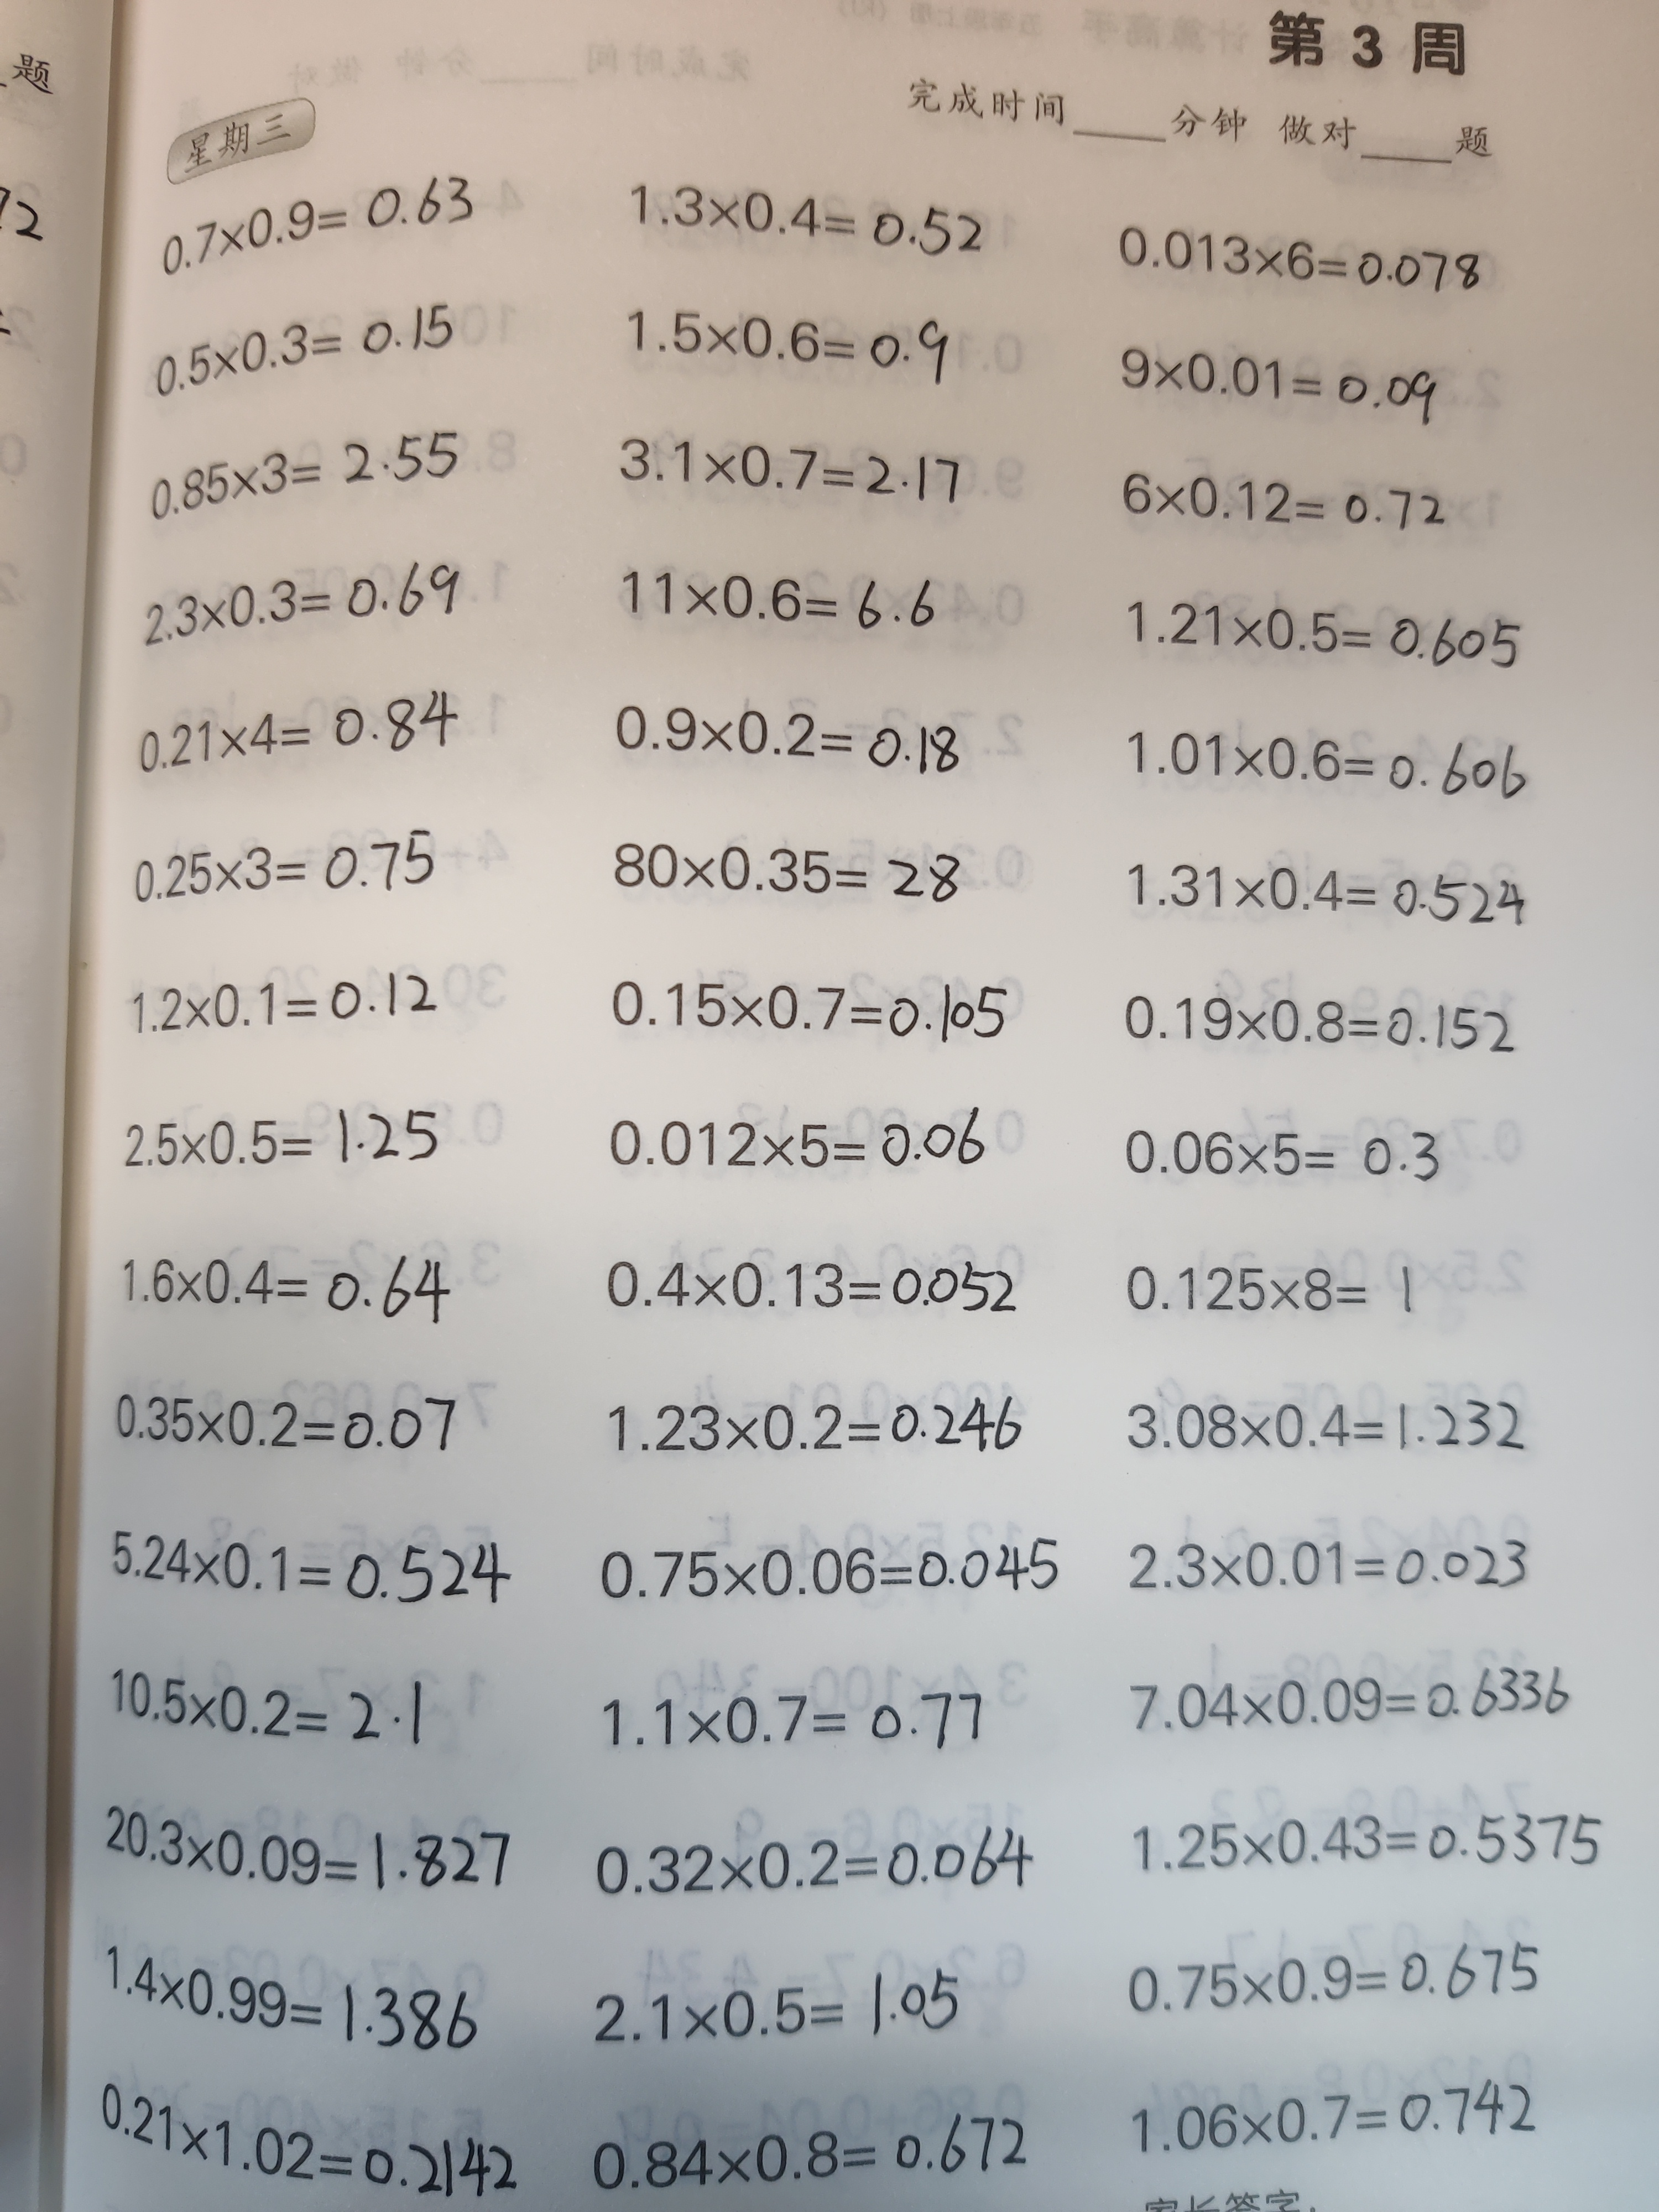equation: (92, 1930, 493, 2074), (92, 1787, 535, 1914), (98, 1510, 521, 1627), (594, 1231, 1030, 1341), (592, 960, 1042, 1066), (1100, 195, 1504, 312), (587, 1522, 1068, 1620), (568, 2099, 1044, 2195), (1110, 580, 1532, 688), (1105, 714, 1554, 815), (599, 815, 990, 930), (606, 416, 986, 533), (1101, 840, 1539, 941), (1107, 975, 1549, 1075), (612, 164, 997, 277), (105, 1372, 471, 1491), (1119, 1930, 1554, 2029), (575, 1954, 971, 2062), (599, 683, 978, 794), (1119, 1801, 1621, 1885), (106, 1231, 460, 1346), (1119, 2067, 1551, 2161), (1114, 1651, 1579, 1738), (594, 1385, 1035, 1475), (591, 1674, 1012, 1768), (579, 1822, 1042, 1907), (592, 1094, 1011, 1188), (1112, 1522, 1554, 1611), (141, 293, 477, 404), (1100, 1237, 1462, 1339), (99, 1655, 441, 1763), (1105, 1383, 1535, 1468), (1107, 327, 1453, 432), (125, 557, 490, 657), (1105, 451, 1469, 550), (138, 425, 479, 529), (605, 291, 950, 394), (143, 176, 486, 277), (605, 554, 955, 650), (113, 690, 472, 782), (117, 820, 453, 918), (1105, 1111, 1469, 1197), (117, 1101, 464, 1188), (120, 961, 465, 1049)
